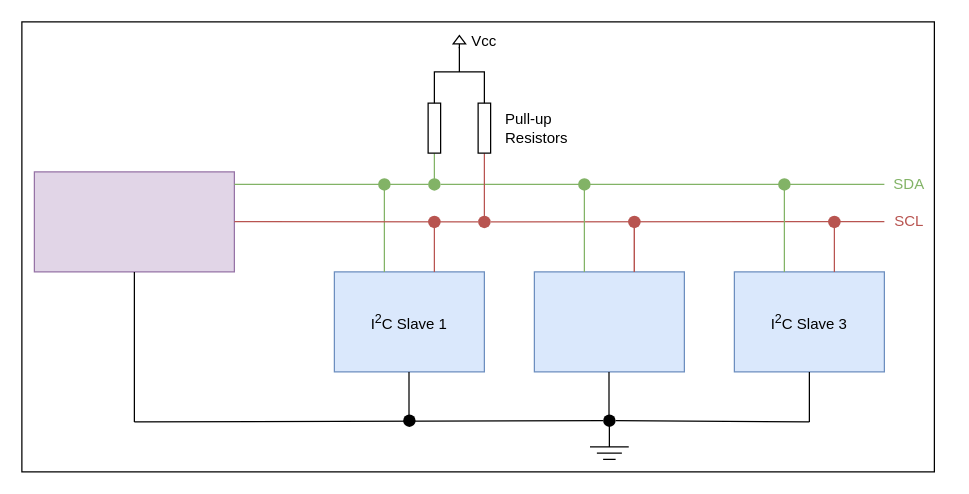
The diagram is 969 pixels wide and 494 high, and some of its shapes have lost their labels. Each missing label, with the box of its shape:
I 2 C Master: (33, 171, 234, 272)
I 2 C Slave 2: (533, 271, 684, 372)
